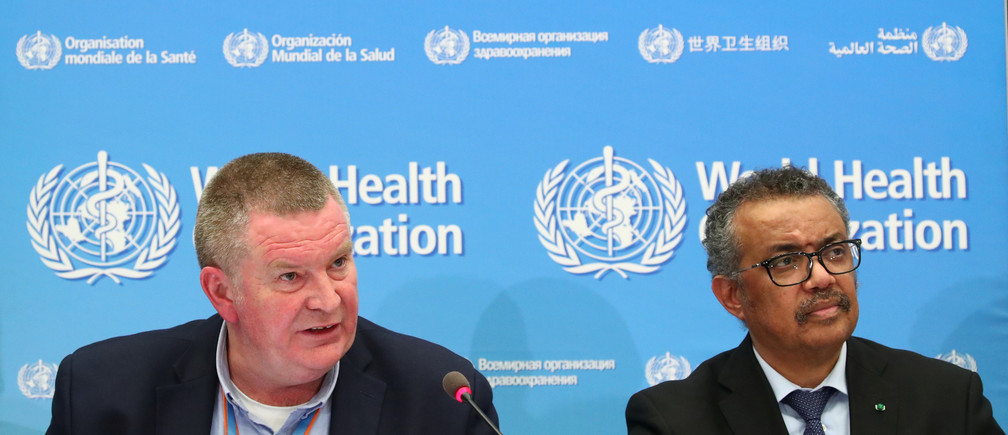without_mask: (245, 210, 351, 358), (735, 204, 856, 333)
